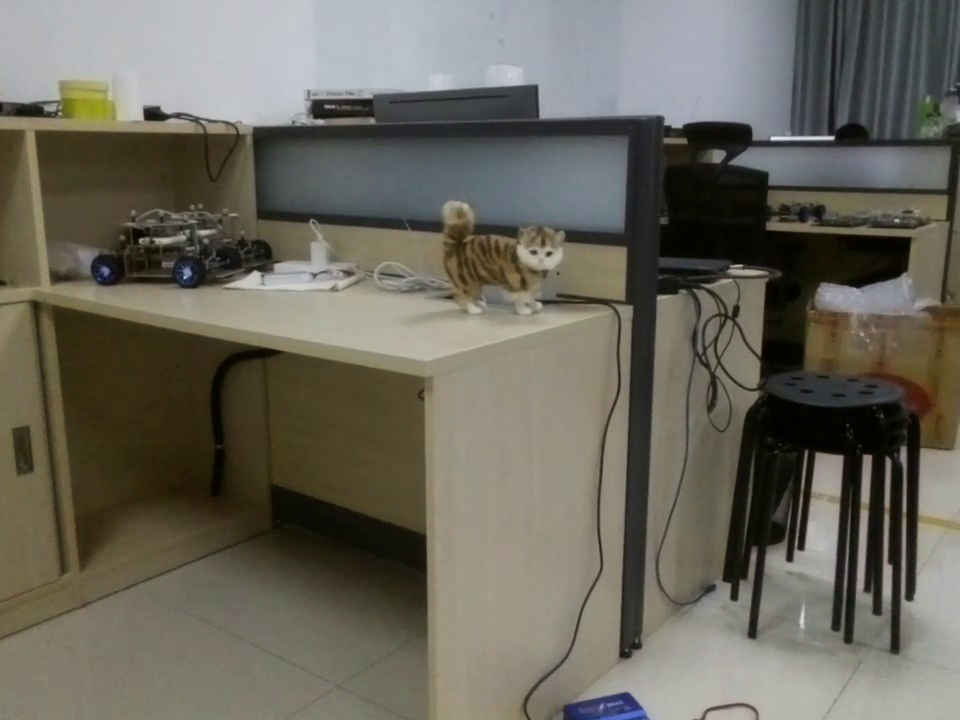cat: (425, 186, 586, 323)
